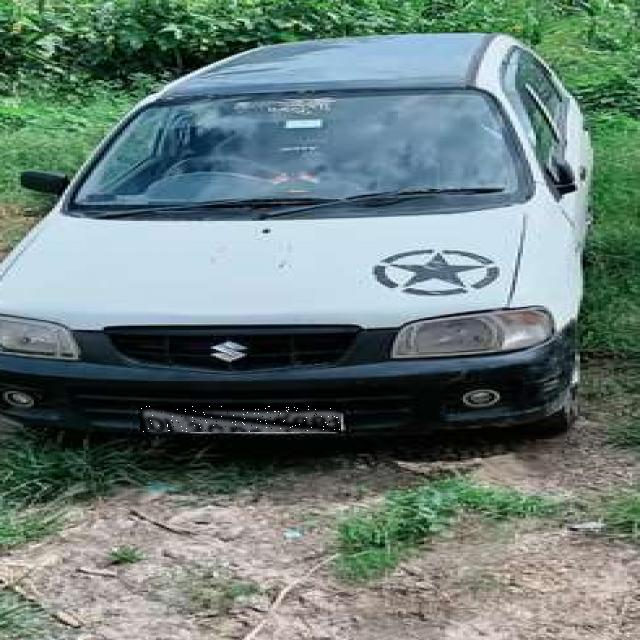Plate: (141, 407, 342, 433)
